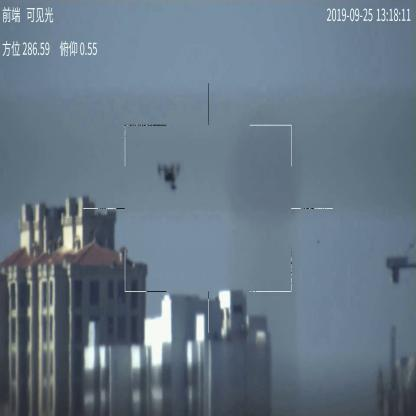uav: (156, 162, 183, 190)
